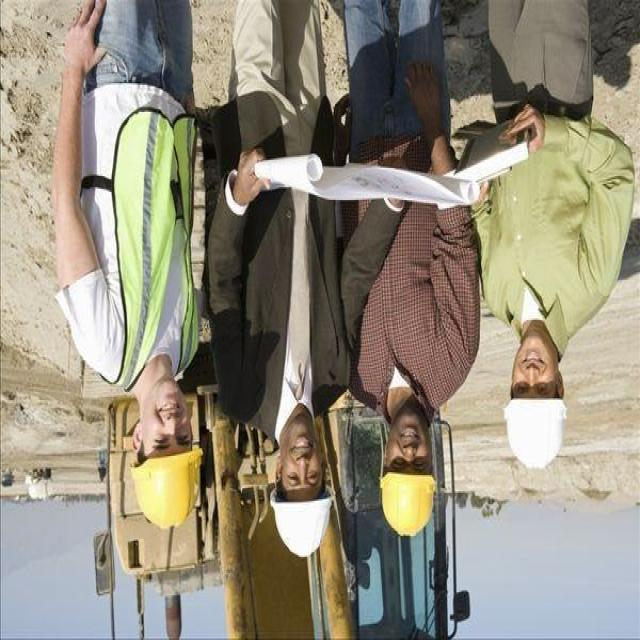helmet: (124, 442, 208, 532), (497, 388, 575, 472), (270, 484, 339, 562), (376, 469, 436, 538)
jacket: (68, 92, 204, 396)
